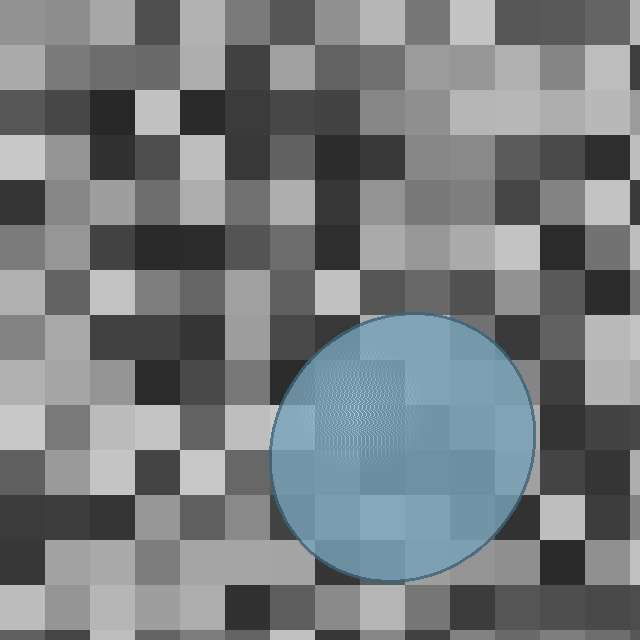lens: (270, 314, 534, 580)
